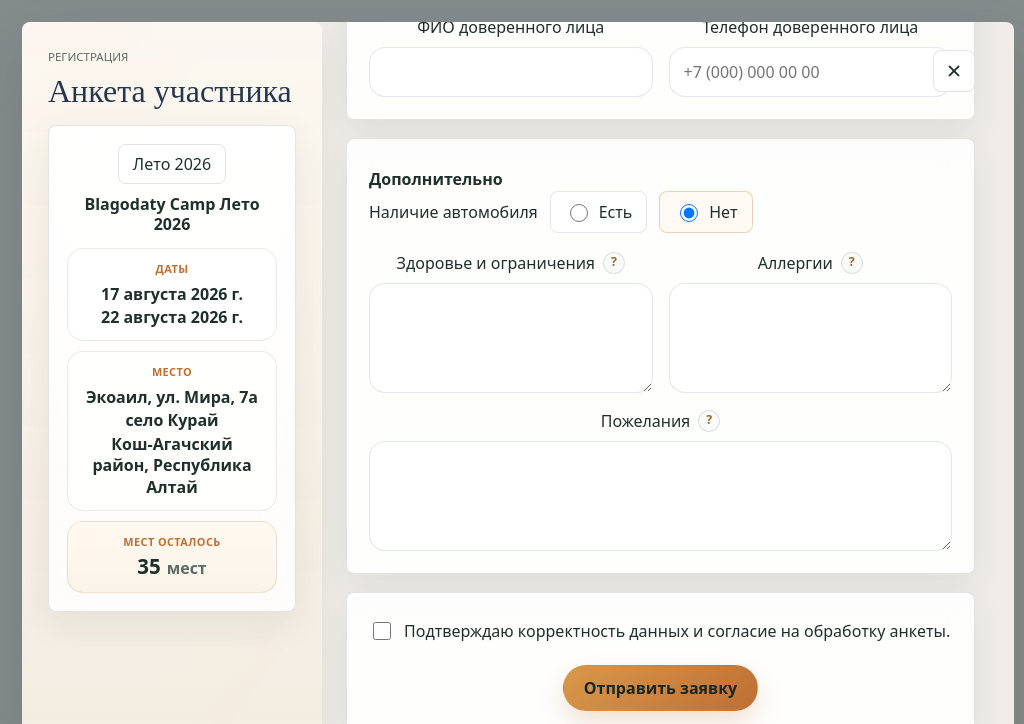
Scenario: RegistrationModal › shows only required validation messages and does not submit an empty form
(page scrolled)
Click the button "Отправить заявку" at (660, 688), box 563,665 -> 758,711
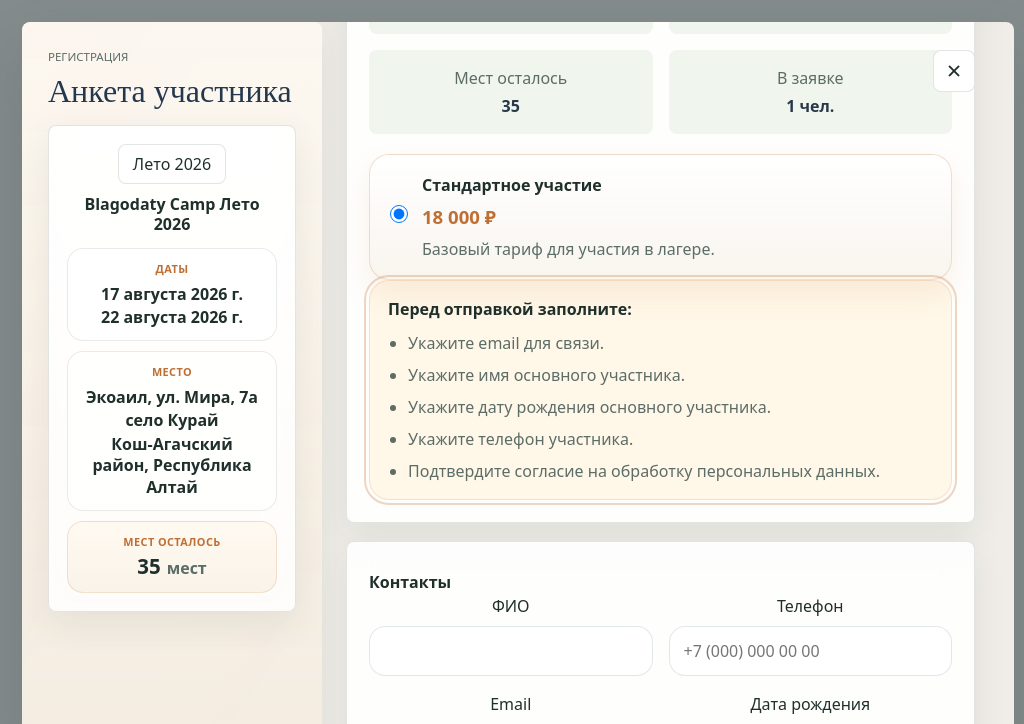
Expected: the text "Перед отправкой заполните:" is shown, 388,298 -> 632,320
Expected: the list item "Укажите email для связи." is shown, 408,332 -> 604,354
Expected: the list item "Укажите имя основного участника." is shown, 408,364 -> 685,386
